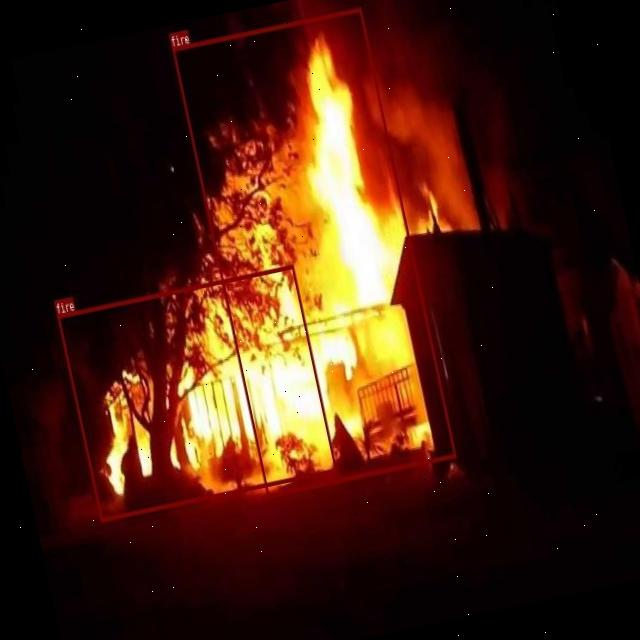fire: (172, 6, 456, 496), (56, 264, 337, 522)
